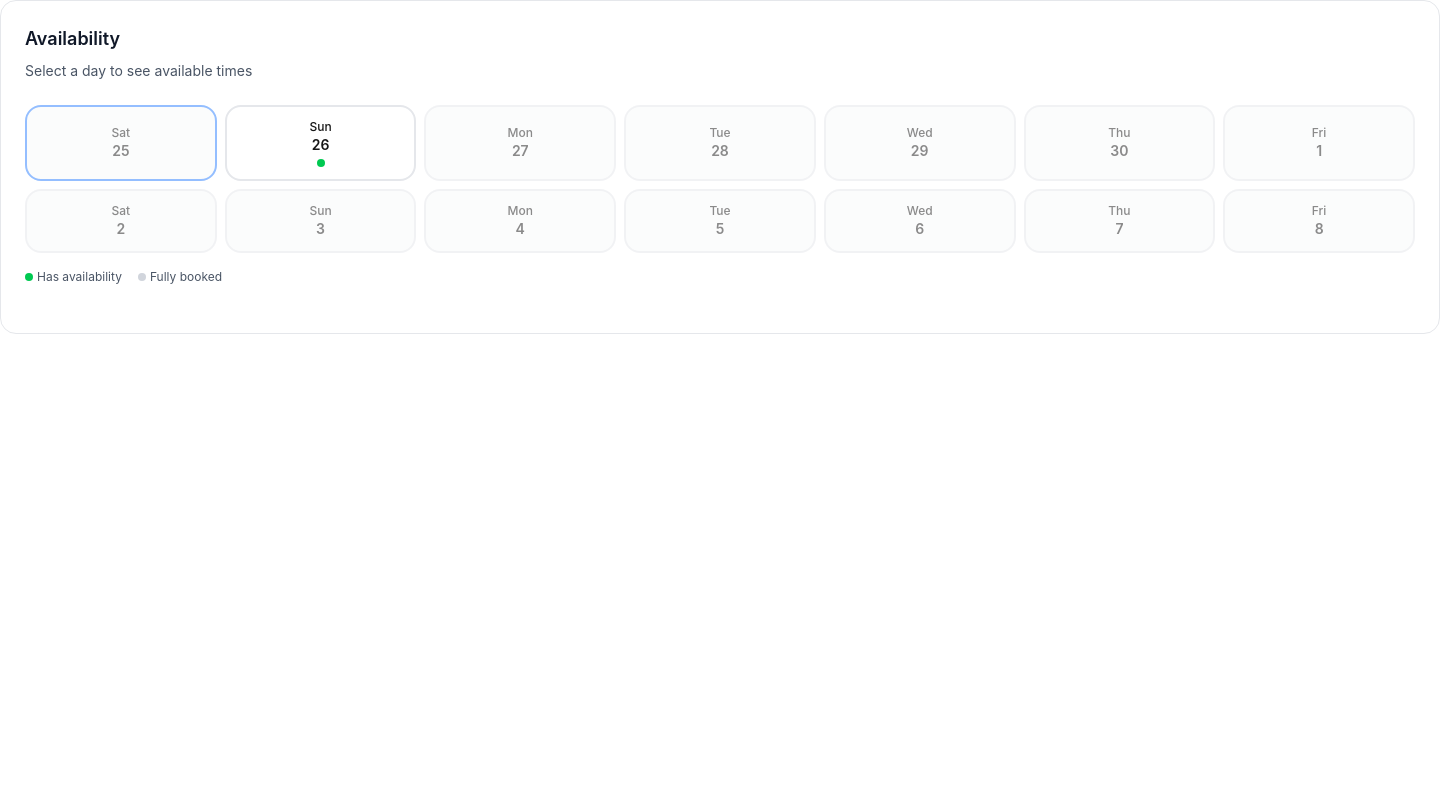
Test: AvailabilityCalendar › with availability › shows time slots when day is selected
This screenshot has width=1440, height=810.
Click the button "Sun 26": (321, 143) [225,105,416,181]
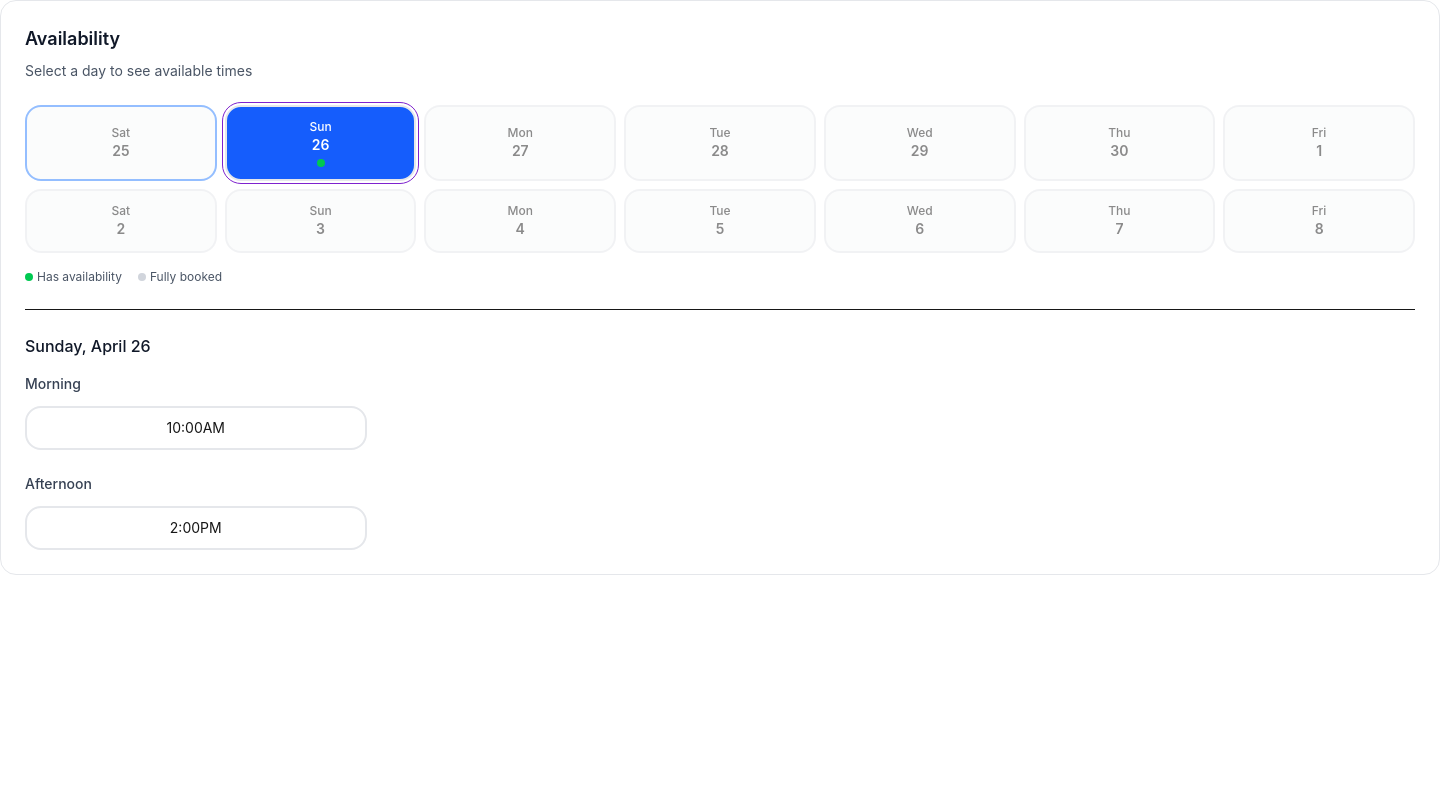
Expected: the heading "Morning" is shown, [25,375,81,392]
